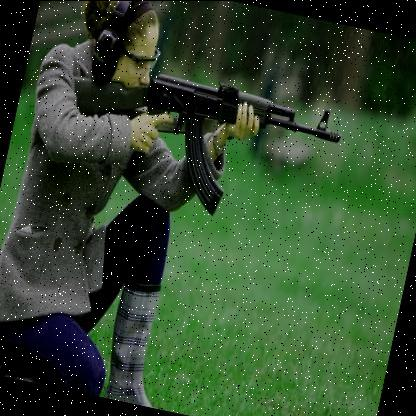rifle: (50, 49, 353, 244)
